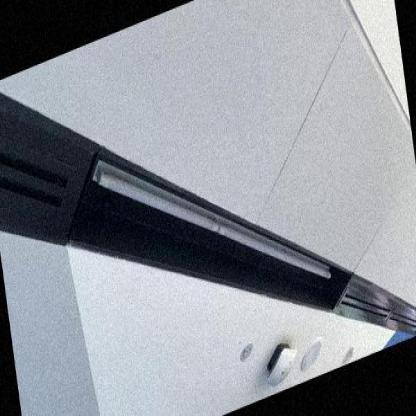light_off: (84, 59, 339, 374)
